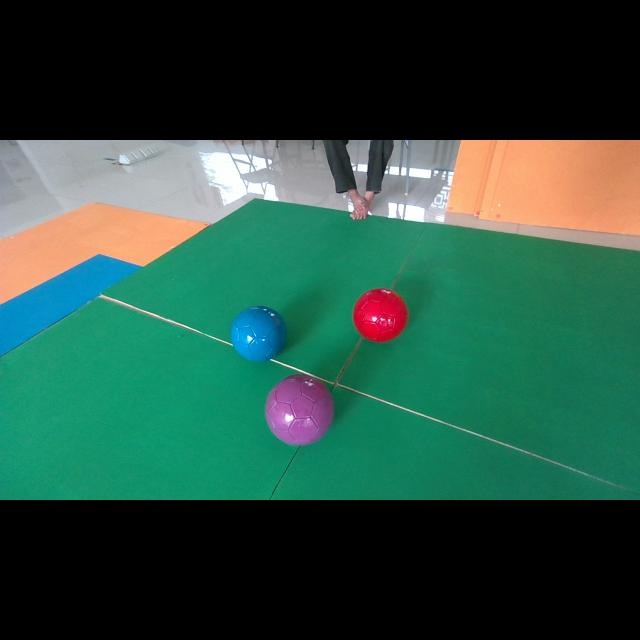B: (230, 306, 288, 362)
P: (265, 374, 334, 445)
R: (352, 288, 408, 342)
